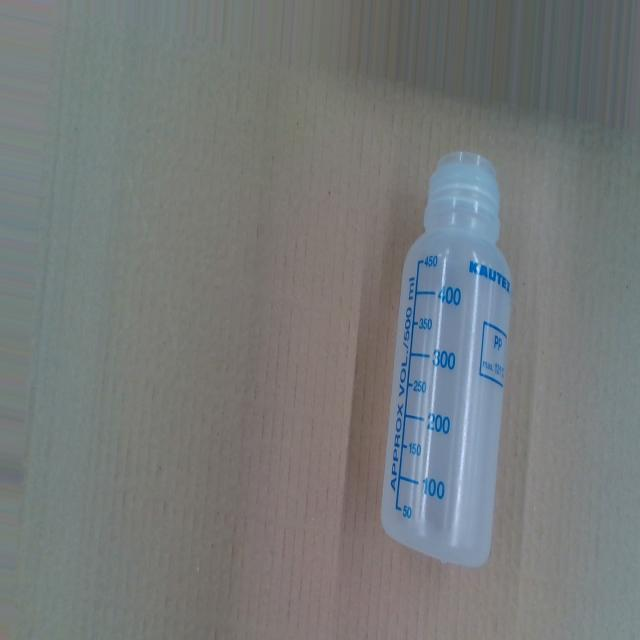bottle: (377, 144, 510, 572)
